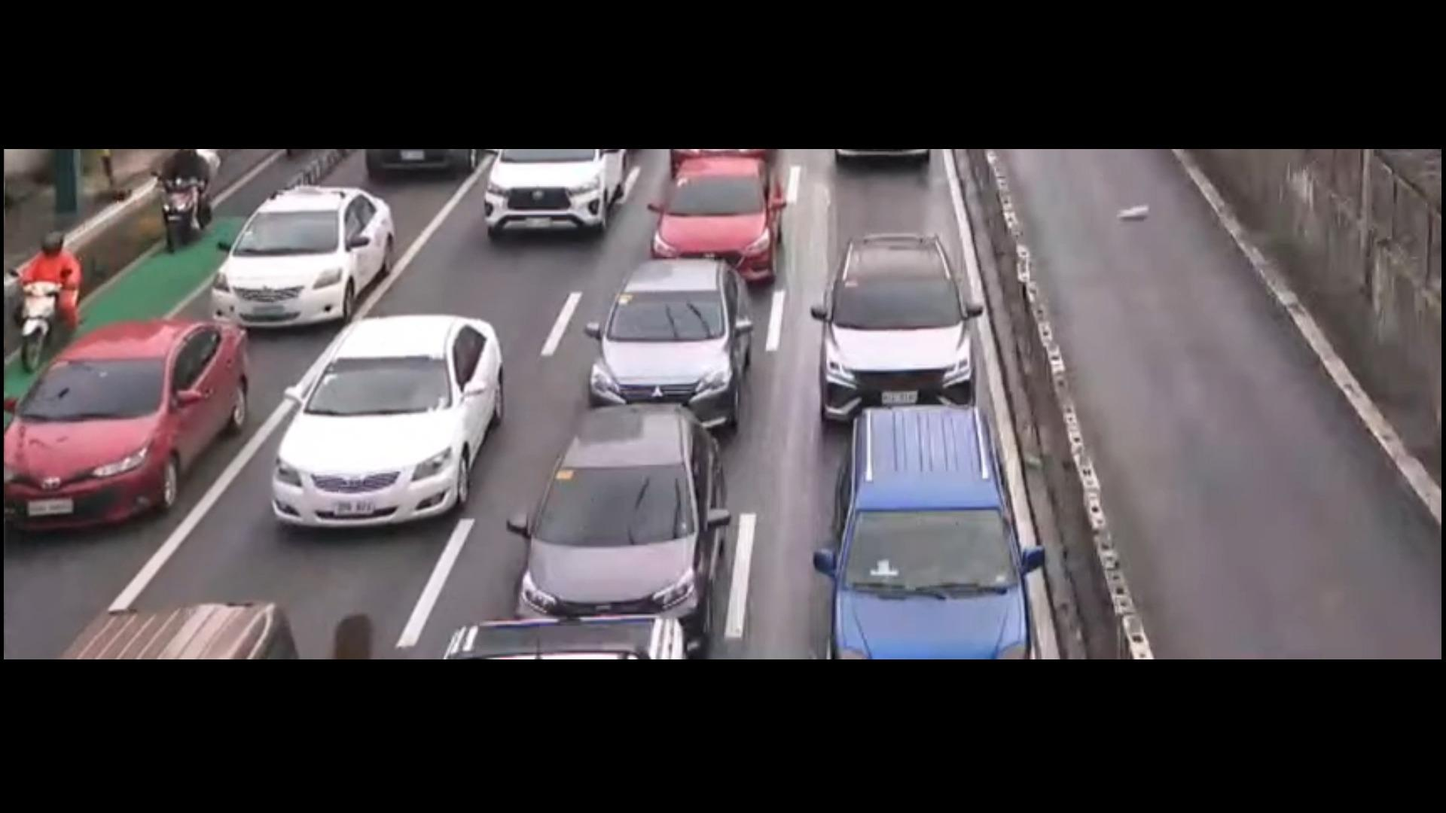Motorcycle: (0, 219, 96, 364), (152, 145, 224, 263)
SUV: (803, 390, 1059, 653), (492, 382, 748, 639), (792, 221, 991, 418)
Sedan: (238, 300, 548, 543), (0, 307, 275, 543), (551, 247, 780, 426), (188, 162, 422, 335), (625, 142, 801, 275)
